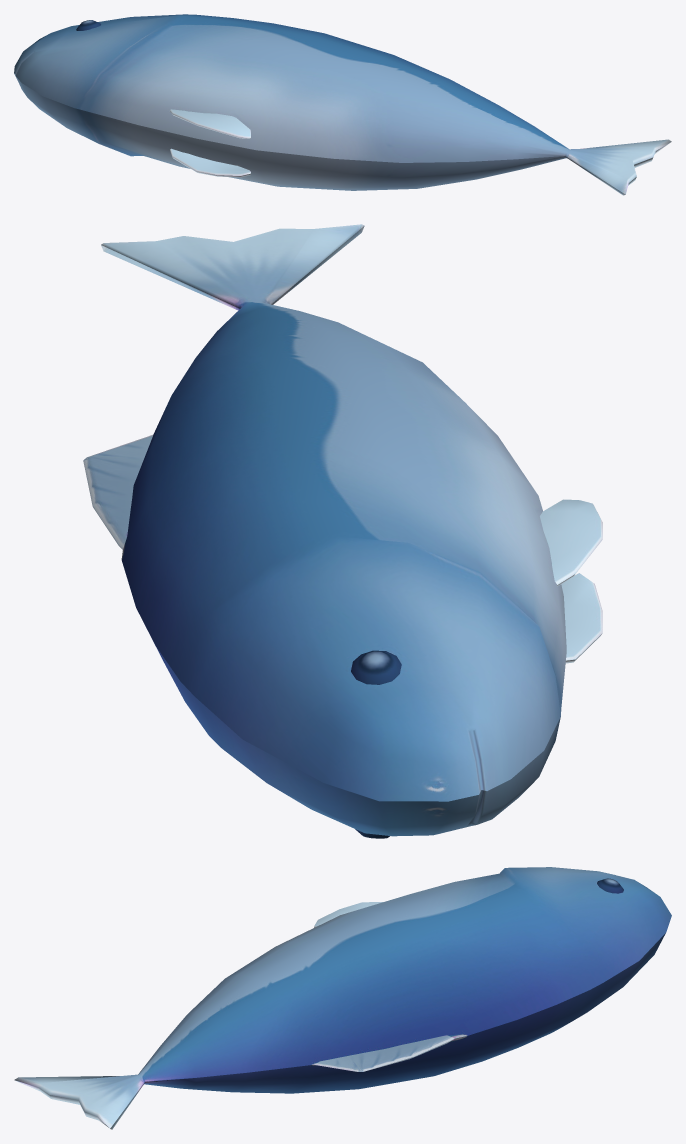
File: Fish.fbx
The picture shows the model from 3 angles, top to bottom: view 1: azimuth 30°, elevation 25°; view 2: azimuth 150°, elevation 25°; view 3: azimuth 270°, elevation 25°; orthographic projection. The views are drawn at different scales.
Visible parts, largest first — view 1: Fish_1; view 2: Fish_1; view 3: Fish_1.
Part boxes in pixels (<box>): Fish_1: <box>14,14,671,195</box>; Fish_1: <box>83,224,602,838</box>; Fish_1: <box>14,867,671,1129</box>.
Bounding box in the file's own units: 65.46 × 19.28 × 77.72.
Materials: 1 (1 with a texture image).
